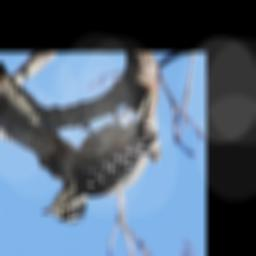Woodpecker: (40, 92, 161, 224)
